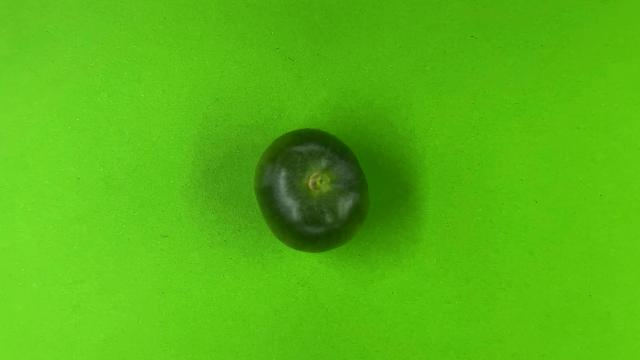Fruit Maturation: (252, 128, 370, 253)
